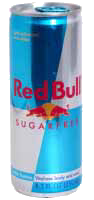grozi_61: (8, 2, 81, 198)
